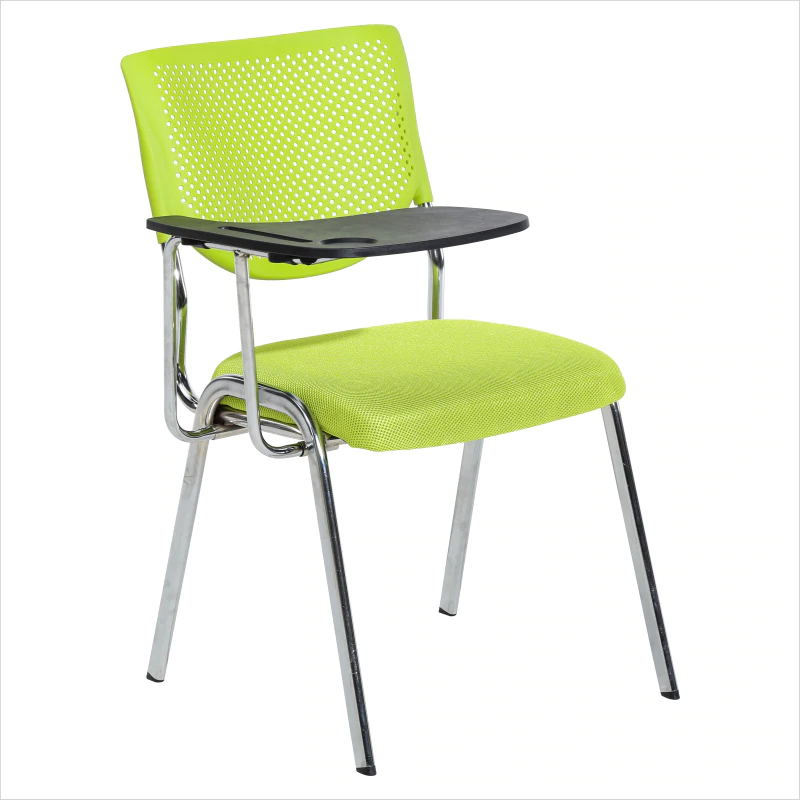desk_054.webp: (100, 13, 691, 782)
